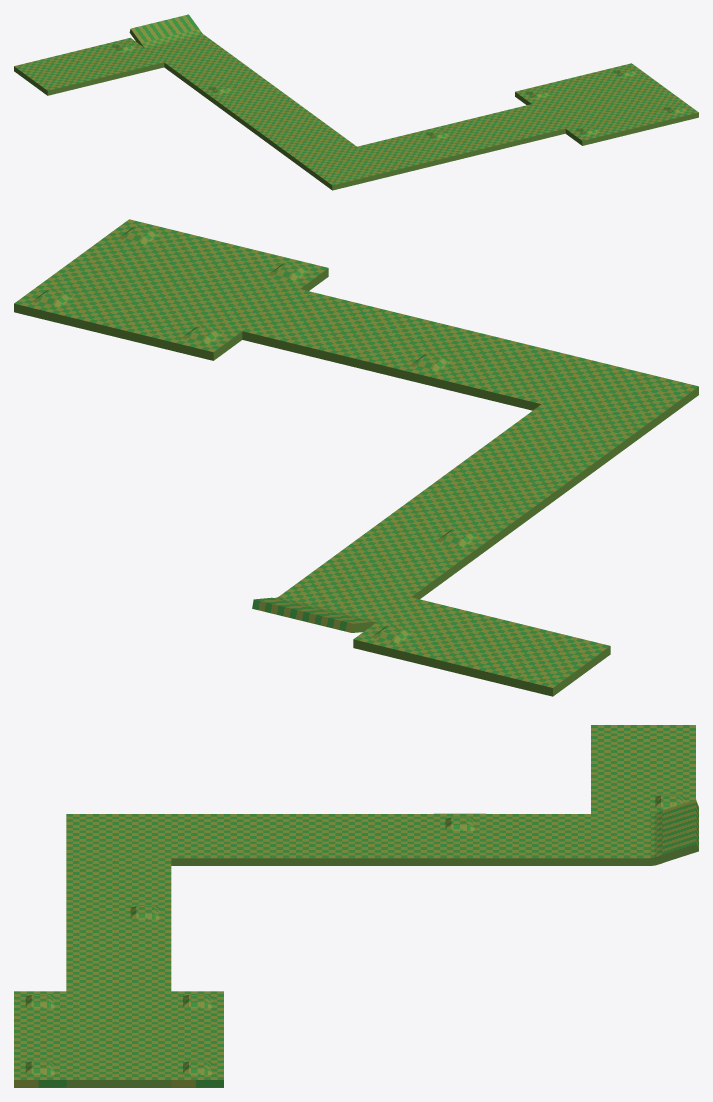
The model's file is rrrr.glb.
3 views of the same model, one above another, from view 1: azimuth 30°, elevation 25°; view 2: azimuth 150°, elevation 25°; view 3: azimuth 270°, elevation 25° (orthographic). The views are drawn at different scales.
Parts seen in each view (by area): view 1: Plane.059; view 2: Plane.059; view 3: Plane.059.
Boxes of the visible parts, x1,y1,x2,y2 form: Plane.059: (14, 14, 698, 190); Plane.059: (14, 219, 698, 696); Plane.059: (14, 725, 698, 1087).
Size of the model in its own units: 96 by 2.8 by 78.34.
Materials: 2 (2 with a texture image).
